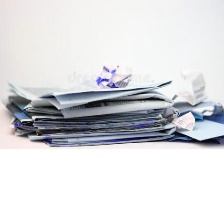book: (0, 77, 179, 148), (161, 96, 223, 144), (164, 63, 215, 108), (87, 57, 130, 91), (172, 112, 201, 131)
